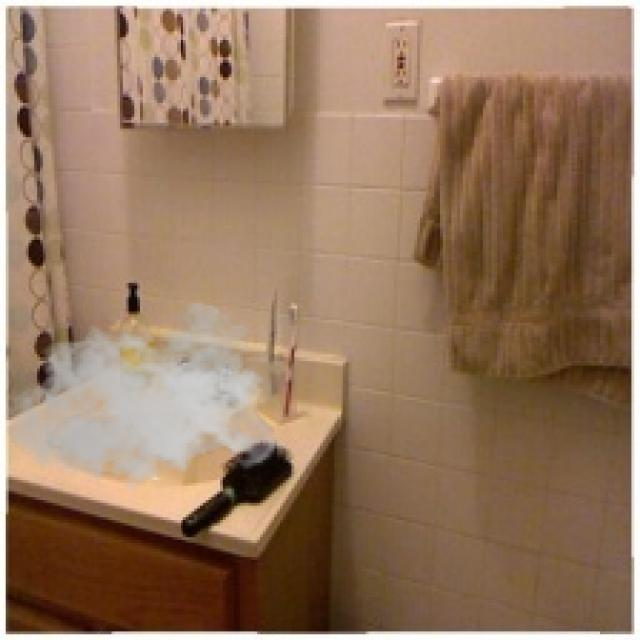smoke: (6, 303, 283, 503)
